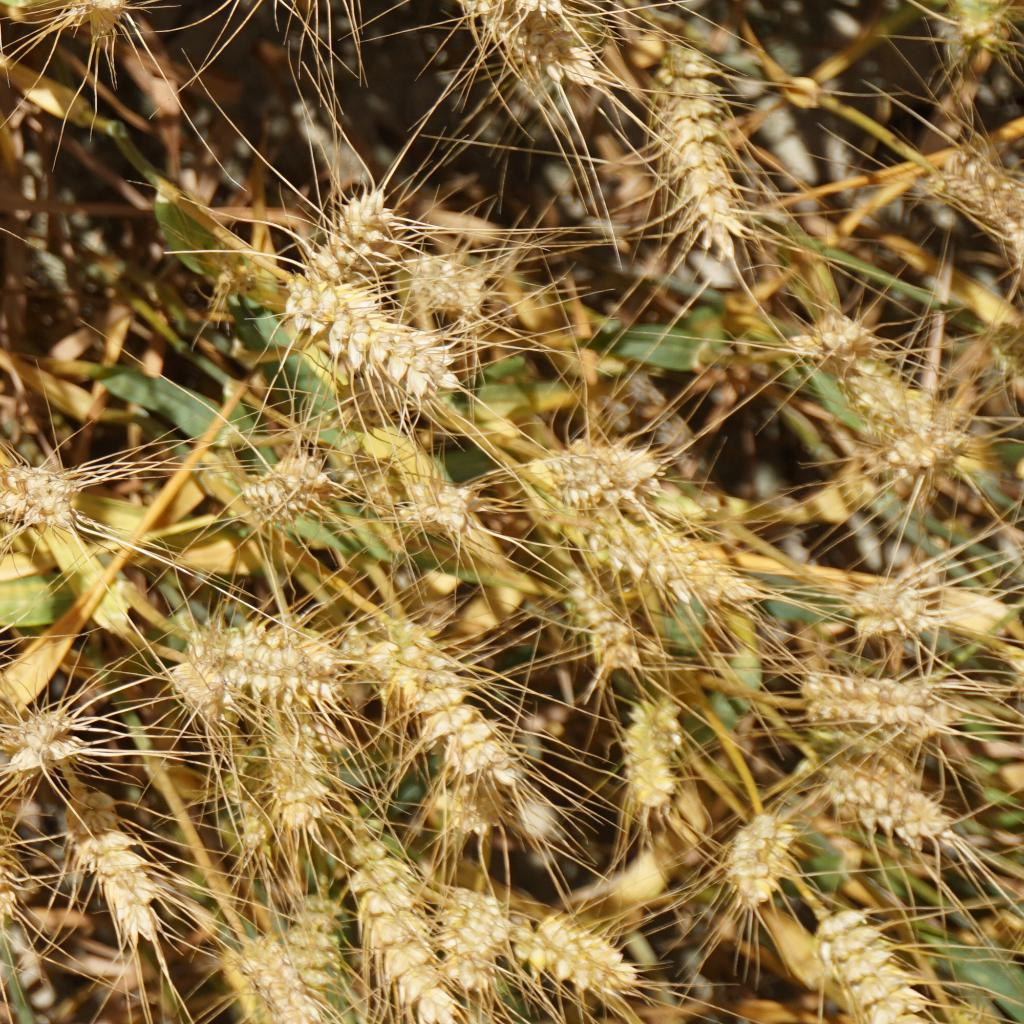0-0: (272, 267, 460, 410), (653, 26, 755, 252), (338, 822, 449, 1024), (55, 779, 173, 958), (430, 0, 608, 93), (798, 903, 931, 1024), (584, 514, 751, 601), (544, 414, 678, 519), (392, 663, 509, 783), (925, 132, 1024, 271), (819, 749, 952, 844), (802, 663, 956, 739), (222, 614, 335, 711), (522, 907, 638, 1001), (553, 567, 651, 674), (303, 181, 391, 291), (619, 691, 692, 816), (338, 608, 437, 700), (227, 921, 314, 1024), (430, 879, 510, 990), (230, 444, 330, 531), (820, 356, 926, 438), (871, 398, 975, 481), (721, 800, 800, 909), (319, 431, 414, 519), (423, 765, 527, 842), (843, 563, 949, 638), (261, 716, 328, 829), (339, 444, 421, 531), (188, 230, 268, 317), (151, 641, 238, 719), (792, 307, 880, 384), (281, 885, 349, 982), (220, 738, 275, 855), (0, 453, 80, 531), (396, 248, 480, 316), (399, 476, 478, 546), (935, 0, 1016, 68), (5, 704, 89, 762), (978, 320, 1024, 380), (62, 0, 138, 33), (0, 617, 15, 689)
